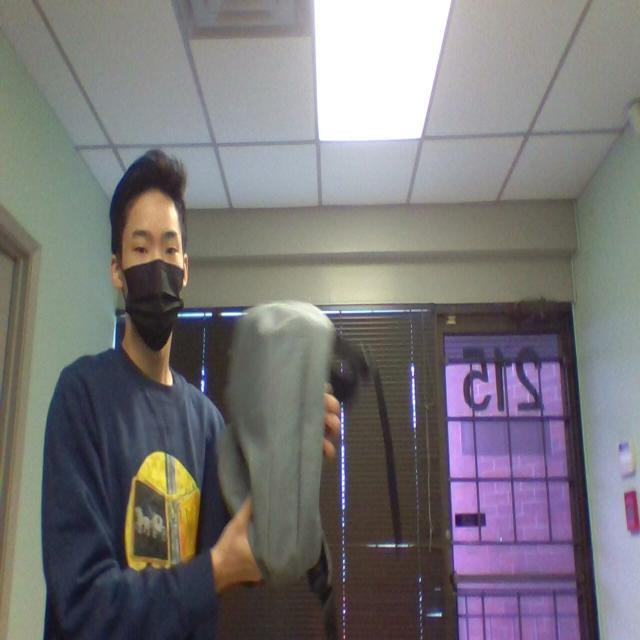Backpacks: (230, 304, 340, 590)
